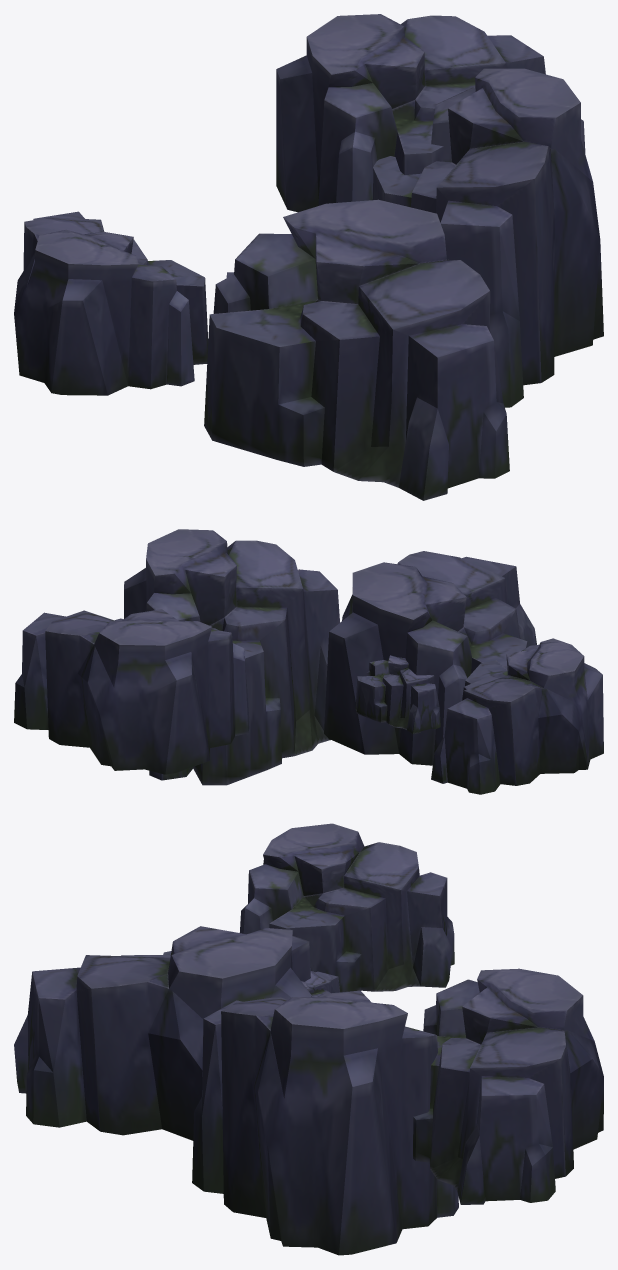
The model's file is Area04_3.fbx.
3 views of the same model, one above another, from view 1: azimuth 30°, elevation 25°; view 2: azimuth 150°, elevation 25°; view 3: azimuth 270°, elevation 25° (orthographic). The views are drawn at different scales.
Parts seen in each view (by area): view 1: Area04_3; view 2: Area04_3; view 3: Area04_3.
Boxes of the visible parts, x1,y1,x2,y2 form: Area04_3: [14, 14, 603, 500]; Area04_3: [14, 529, 603, 794]; Area04_3: [14, 823, 603, 1255].
Bounding box in the file's own units: 8082 × 2914 × 7270.
